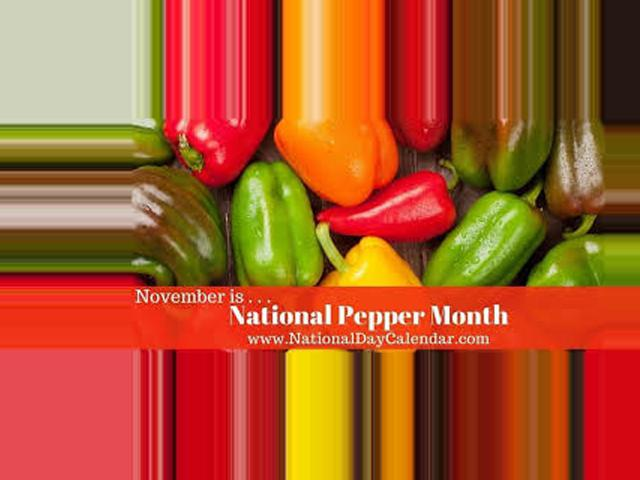bell_pepper: (132, 164, 224, 286)
